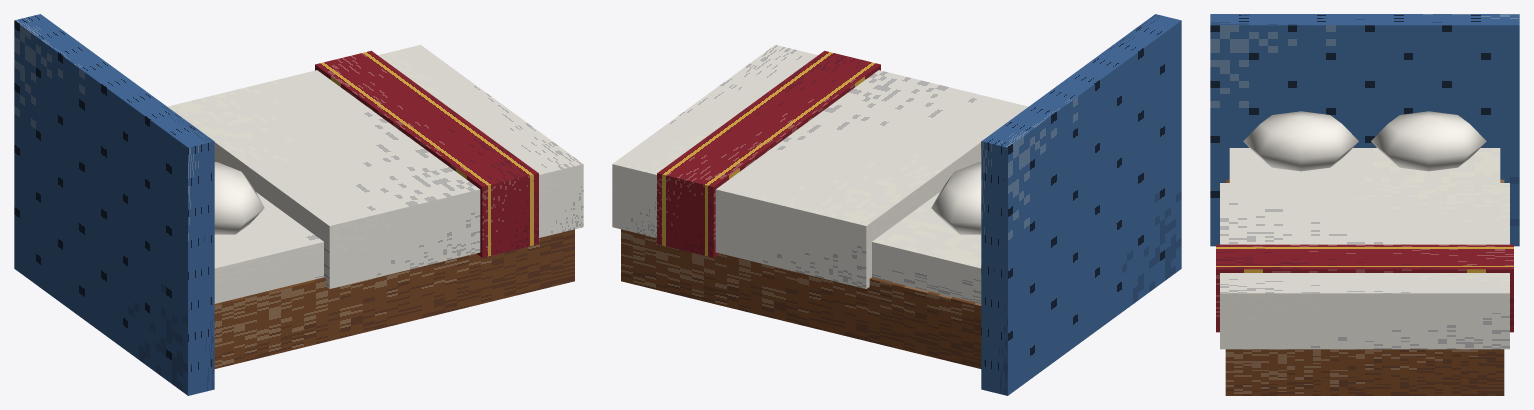
The model's file is moreA-hotelBed.glb.
3 renders of one model, left to right at view 1: azimuth 30°, elevation 25°; view 2: azimuth 150°, elevation 25°; view 3: azimuth 270°, elevation 25°, orthographic. The views are drawn at different scales.
Parts seen in each view (by area): view 1: moreA.hotelBed; view 2: moreA.hotelBed; view 3: moreA.hotelBed.
Boxes of the visible parts, x1,y1,x2,y2 form: moreA.hotelBed: [14, 14, 583, 395]; moreA.hotelBed: [612, 14, 1181, 395]; moreA.hotelBed: [1210, 14, 1519, 395].
Bounding box in the file's own units: 1.45 × 0.8551 × 1.09.
5 materials, 5 textured.
